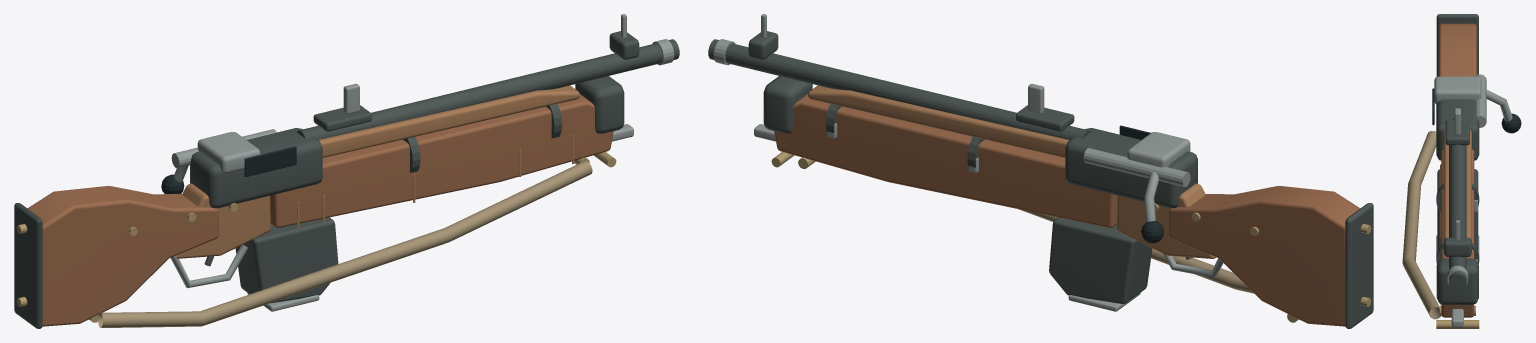
The model's file is smle_mkiii_rifle_web.glb.
The picture shows the model from 3 angles, left to right: view 1: azimuth 30°, elevation 25°; view 2: azimuth 150°, elevation 25°; view 3: azimuth 270°, elevation 25°; orthographic projection. The views are drawn at different scales.
Visible parts, largest first — view 1: WEB_BATCH_MAT_oiled_walnut_stock, WEB_BATCH_MAT_blued_rifle_steel, WEB_BATCH_MAT_walnut_handguard, SLING_canvas_underfore_end, WEB_BATCH_MAT_rifle_burnished_steel, WEB_BATCH_MAT_open_bore_and_apertures, WEB_BATCH_MAT_brass_sling_and_hardware; view 2: WEB_BATCH_MAT_oiled_walnut_stock, WEB_BATCH_MAT_blued_rifle_steel, WEB_BATCH_MAT_walnut_handguard, WEB_BATCH_MAT_rifle_burnished_steel, SLING_canvas_underfore_end, WEB_BATCH_MAT_brass_sling_and_hardware, WEB_BATCH_MAT_open_bore_and_apertures; view 3: WEB_BATCH_MAT_blued_rifle_steel, WEB_BATCH_MAT_oiled_walnut_stock, WEB_BATCH_MAT_rifle_burnished_steel, SLING_canvas_underfore_end, WEB_BATCH_MAT_walnut_handguard, WEB_BATCH_MAT_open_bore_and_apertures, WEB_BATCH_MAT_brass_sling_and_hardware.
Part boxes in pixels (box(x1,y1,x2,y2)): WEB_BATCH_MAT_oiled_walnut_stock: box(27, 94, 613, 326); WEB_BATCH_MAT_blued_rifle_steel: box(14, 31, 679, 328); WEB_BATCH_MAT_walnut_handguard: box(176, 85, 579, 258); SLING_canvas_underfore_end: box(98, 160, 592, 327); WEB_BATCH_MAT_rifle_burnished_steel: box(170, 14, 674, 311); WEB_BATCH_MAT_open_bore_and_apertures: box(161, 146, 296, 193); WEB_BATCH_MAT_brass_sling_and_hardware: box(16, 152, 616, 322); WEB_BATCH_MAT_oiled_walnut_stock: box(774, 94, 1360, 326); WEB_BATCH_MAT_blued_rifle_steel: box(708, 31, 1373, 328); WEB_BATCH_MAT_walnut_handguard: box(808, 85, 1215, 258); WEB_BATCH_MAT_rifle_burnished_steel: box(713, 14, 1223, 311); SLING_canvas_underfore_end: box(1018, 209, 1254, 293); WEB_BATCH_MAT_brass_sling_and_hardware: box(771, 152, 1371, 322); WEB_BATCH_MAT_open_bore_and_apertures: box(1119, 125, 1163, 243); WEB_BATCH_MAT_blued_rifle_steel: box(1436, 14, 1479, 304); WEB_BATCH_MAT_oiled_walnut_stock: box(1438, 23, 1476, 317); WEB_BATCH_MAT_rifle_burnished_steel: box(1434, 74, 1512, 327); SLING_canvas_underfore_end: box(1402, 131, 1440, 319); WEB_BATCH_MAT_walnut_handguard: box(1440, 130, 1471, 304); WEB_BATCH_MAT_open_bore_and_apertures: box(1432, 88, 1521, 133); WEB_BATCH_MAT_brass_sling_and_hardware: box(1436, 306, 1479, 328).
Bounding box in the file's own units: 1.18 × 0.3425 × 0.215.
